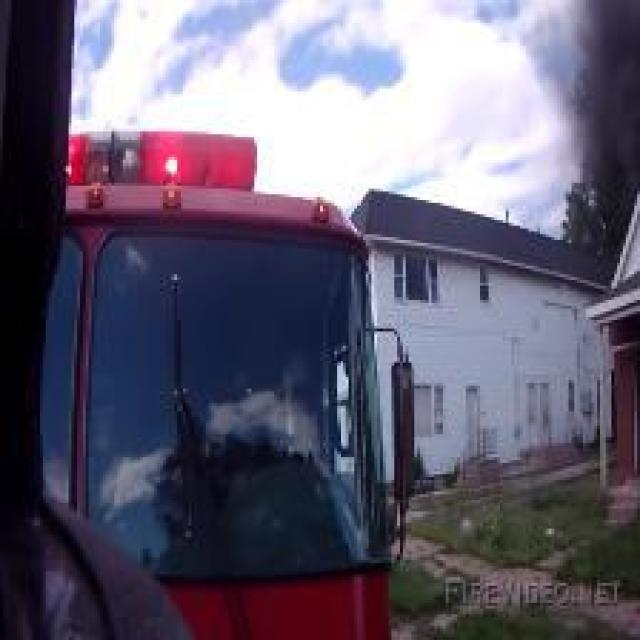other: (78, 108, 262, 204)
